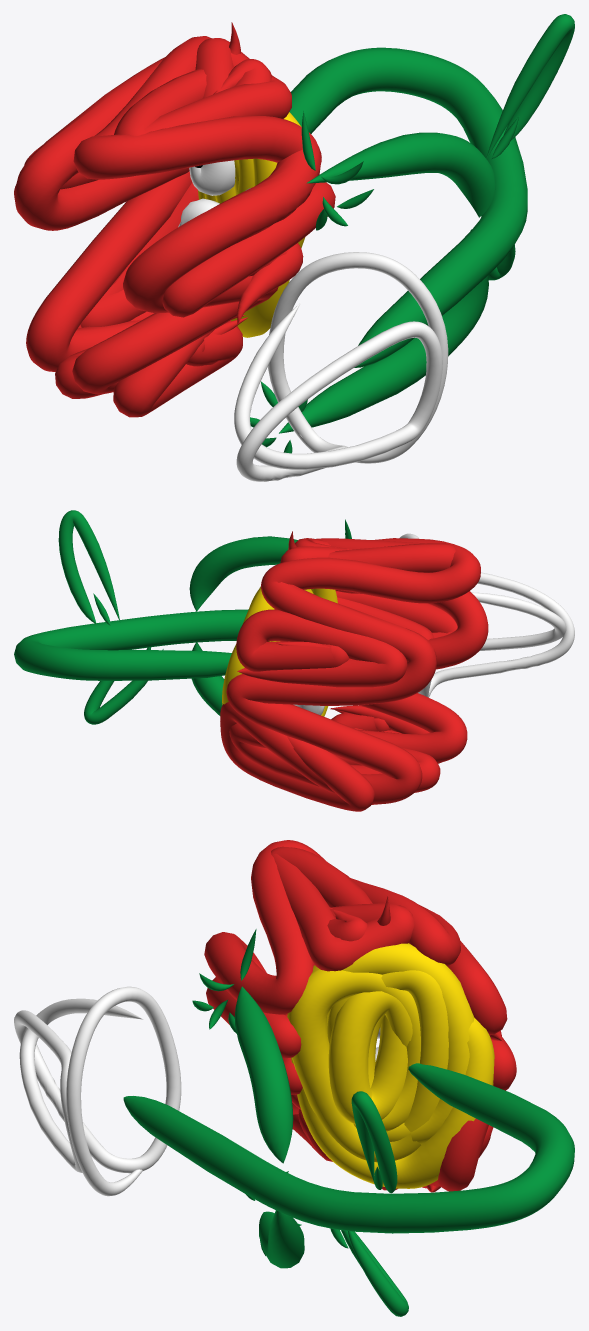
Rendered from sadflower.glb.
3 views of the same model, one above another, from view 1: azimuth 30°, elevation 25°; view 2: azimuth 150°, elevation 25°; view 3: azimuth 270°, elevation 25° (orthographic). The views are drawn at different scales.
Visible parts, largest first — view 1: sadflower; view 2: sadflower; view 3: sadflower.
Boxes of the visible parts, bbox=[...] form: sadflower: bbox=[14, 14, 574, 481]; sadflower: bbox=[14, 510, 574, 811]; sadflower: bbox=[14, 840, 574, 1316].
Size of the model in its own units: 0.4909 by 0.3521 by 0.4864.
Materials: 1 (1 with a texture image).
